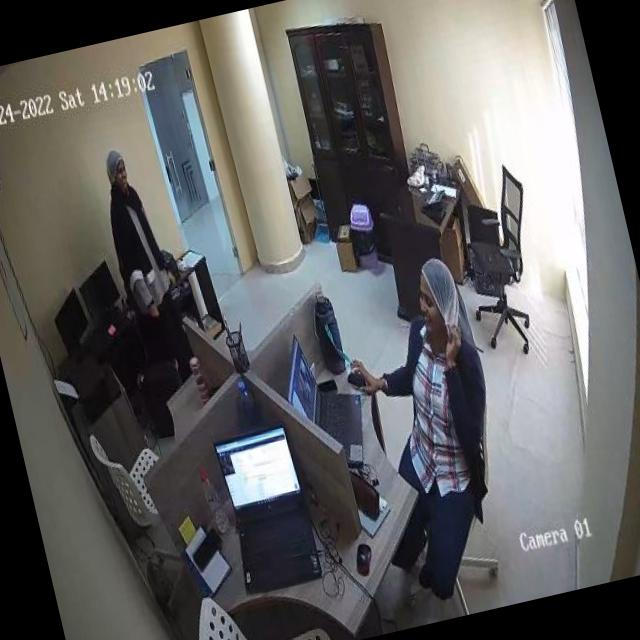hairnet: (416, 256, 464, 334), (100, 147, 126, 180)
